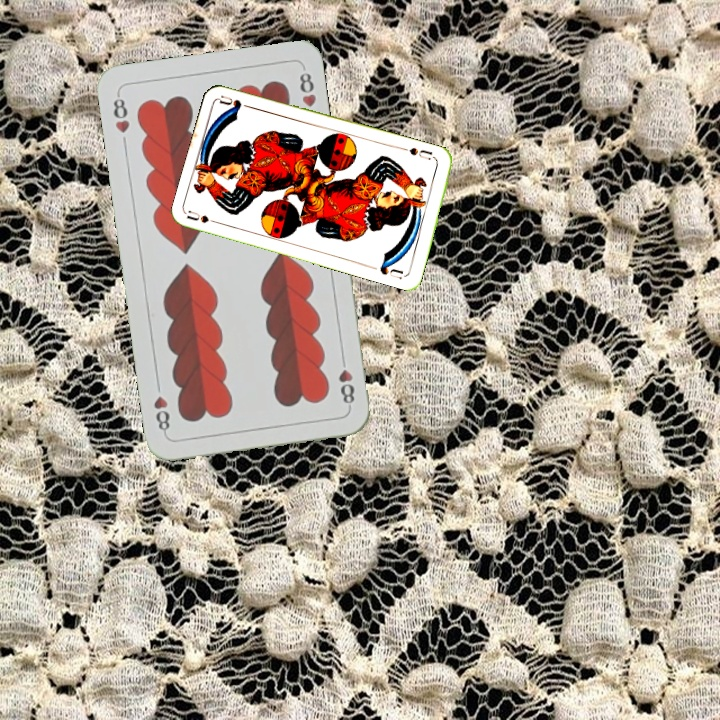H8: (334, 351, 358, 411), (109, 89, 133, 136)
SU: (184, 206, 225, 228), (405, 143, 435, 163)
